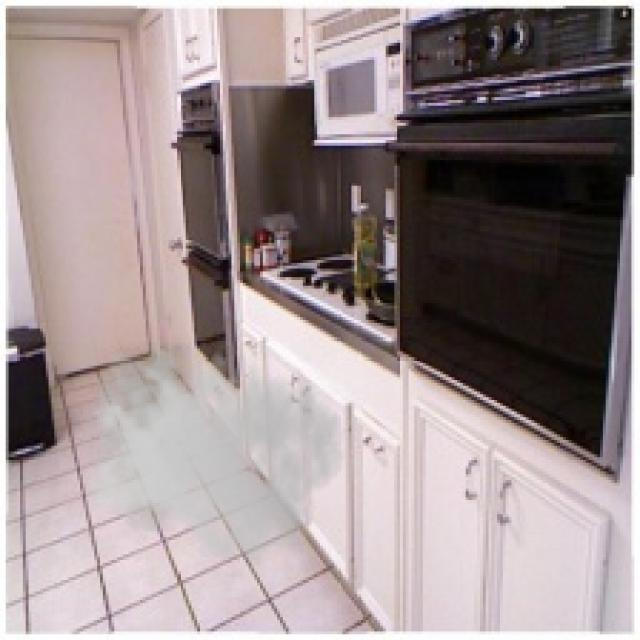Smoke: (77, 334, 346, 569)
